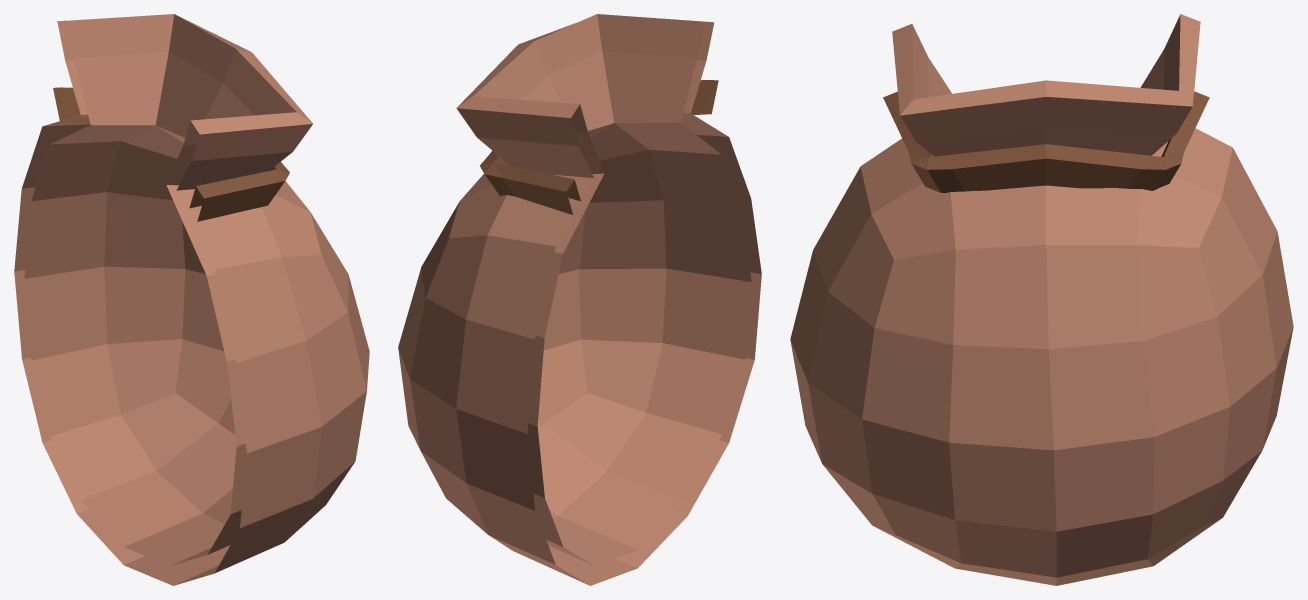
File: Sack_Half.fbx
3 renders of one model, left to right at view 1: azimuth 30°, elevation 25°; view 2: azimuth 150°, elevation 25°; view 3: azimuth 270°, elevation 25°, orthographic. The views are drawn at different scales.
Visible parts, largest first — view 1: SAck Half, Sack Rope.001; view 2: SAck Half, Sack Rope.001; view 3: SAck Half, Sack Rope.001.
Boxes of the visible parts, bbox=[...] form: SAck Half: bbox=[14, 14, 369, 585]; Sack Rope.001: bbox=[53, 87, 289, 221]; SAck Half: bbox=[398, 14, 761, 585]; Sack Rope.001: bbox=[480, 80, 718, 214]; SAck Half: bbox=[790, 14, 1293, 585]; Sack Rope.001: bbox=[883, 91, 1209, 192].
Size of the model in its own units: 36.03 by 82.26 by 69.01.
